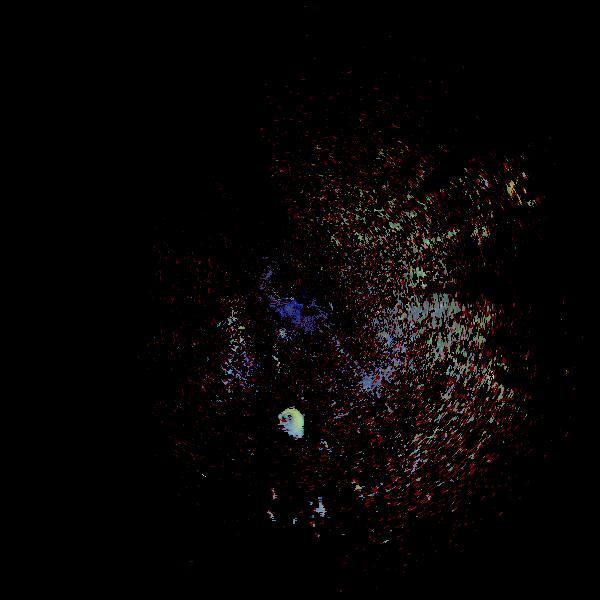roost: (277, 407, 307, 437), (303, 499, 327, 523), (255, 507, 276, 528), (278, 510, 299, 531), (262, 487, 277, 502)
